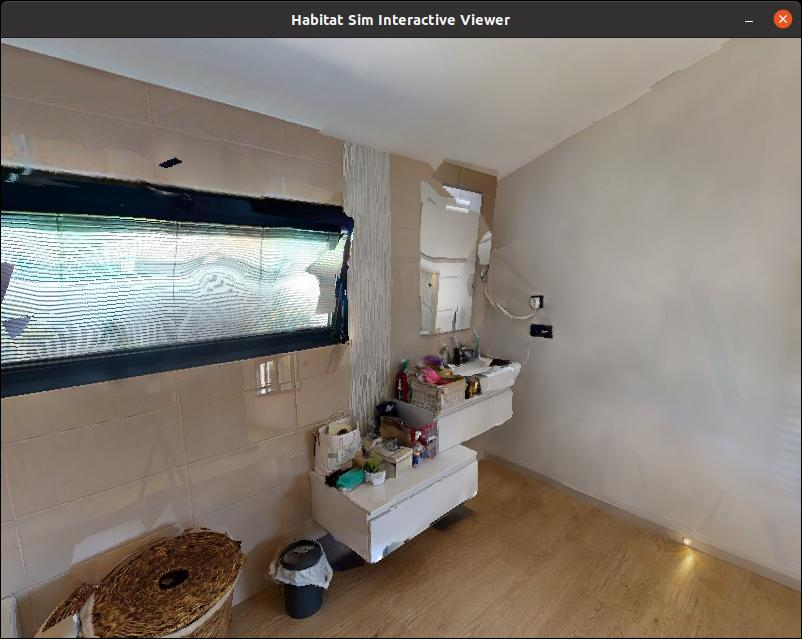sink: (419, 339, 528, 431)
